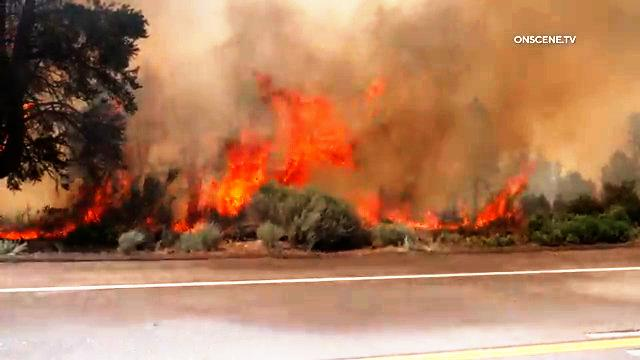fire: (203, 70, 350, 236), (362, 174, 541, 247), (0, 186, 127, 256)
smoke: (160, 0, 480, 67)
